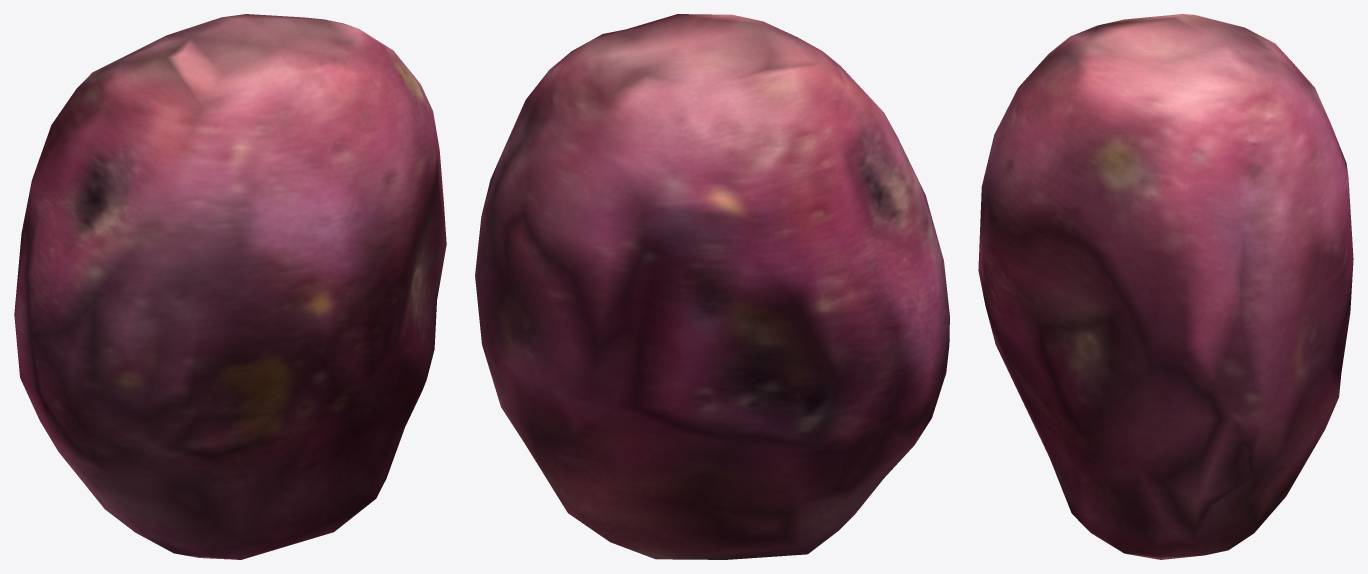
Rendered from red_potato.obj.
3 renders of one model, left to right at view 1: azimuth 30°, elevation 25°; view 2: azimuth 150°, elevation 25°; view 3: azimuth 270°, elevation 25°, orthographic. The views are drawn at different scales.
Visible parts, largest first — view 1: red_potato; view 2: red_potato; view 3: red_potato.
Part boxes in pixels (left/top/right/bottom): red_potato: left=14, top=14, right=446, bottom=559; red_potato: left=475, top=14, right=949, bottom=559; red_potato: left=978, top=14, right=1353, bottom=559.
Size of the model in its own units: 0.9262 by 1.03 by 0.7336.
1 material, 1 textured.
